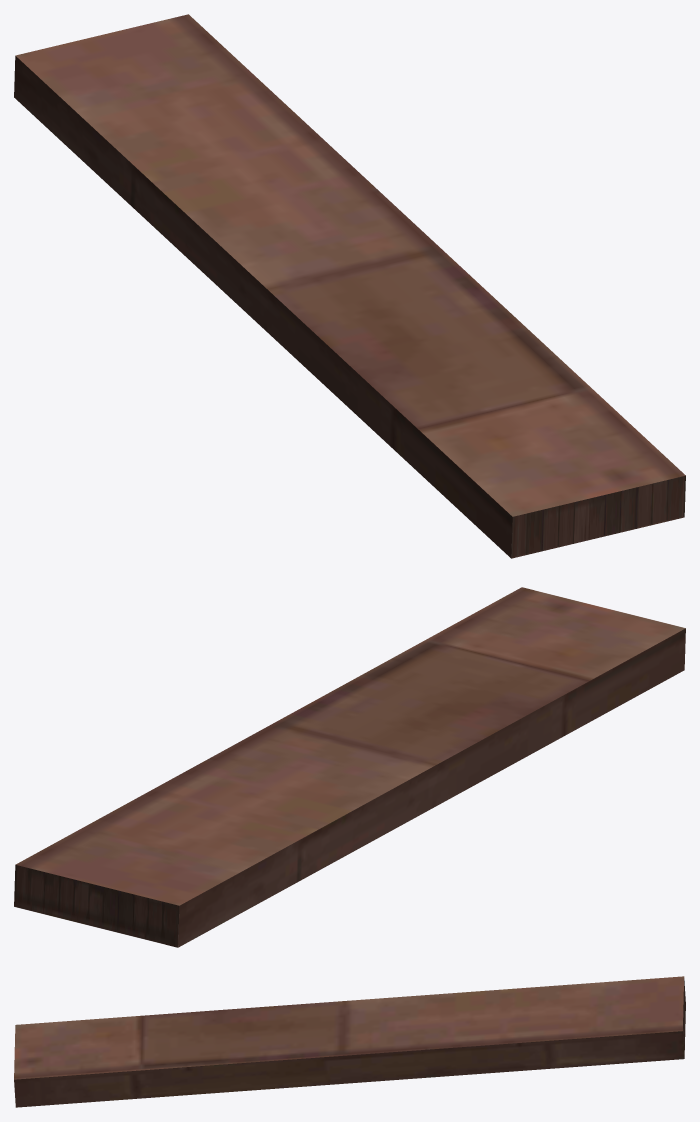
File: woodBlock2 (52).fbx
3 renders of one model, top to bottom at view 1: azimuth 30°, elevation 25°; view 2: azimuth 150°, elevation 25°; view 3: azimuth 270°, elevation 25°, orthographic. The views are drawn at different scales.
Parts seen in each view (by area): view 1: woodBlock2 (52); view 2: woodBlock2 (52); view 3: woodBlock2 (52).
Part boxes in pixels (x1,y1,x2,y2): woodBlock2 (52): [14, 14, 685, 558]; woodBlock2 (52): [14, 587, 685, 947]; woodBlock2 (52): [14, 976, 685, 1107].
Size of the model in its own units: 15 by 9.53 by 71.26.
